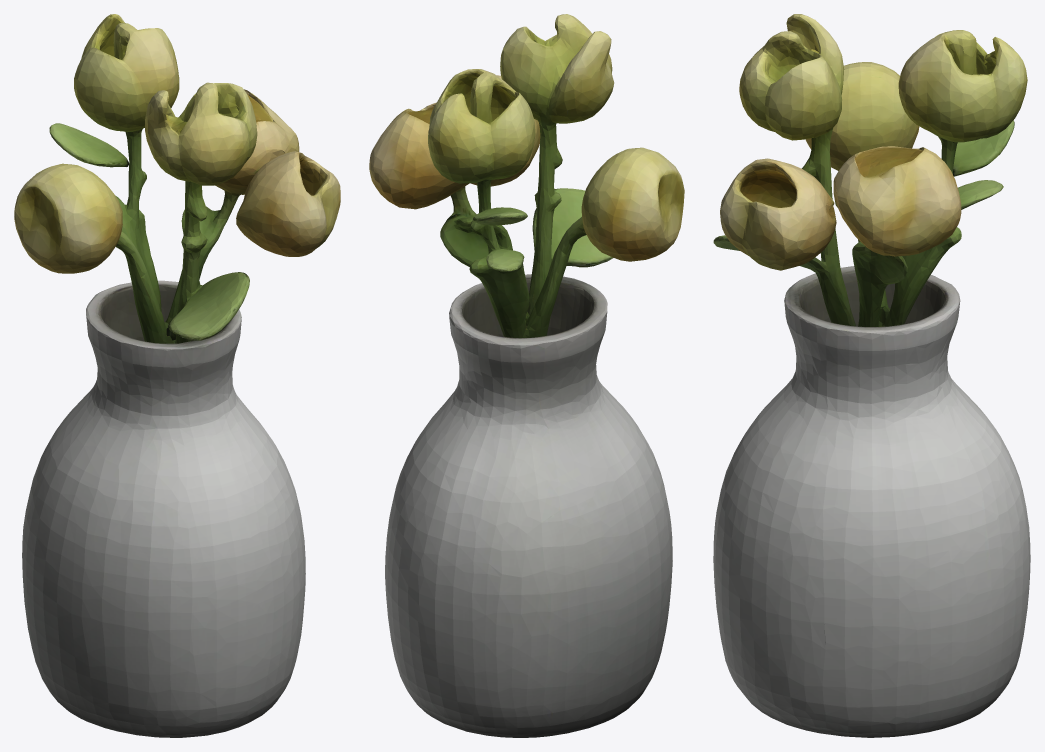
File: item_vase.glb
3 renders of one model, left to right at view 1: azimuth 30°, elevation 25°; view 2: azimuth 150°, elevation 25°; view 3: azimuth 270°, elevation 25°, orthographic. The views are drawn at different scales.
Visible parts, largest first — view 1: geometry_0; view 2: geometry_0; view 3: geometry_0.
Boxes of the visible parts, box(x1,y1,x2,y2) form: geometry_0: box(14, 14, 340, 737); geometry_0: box(369, 14, 684, 737); geometry_0: box(713, 14, 1030, 737).
Size of the model in its own units: 0.4551 by 0.9997 by 0.4327.
1 material, 1 textured.
